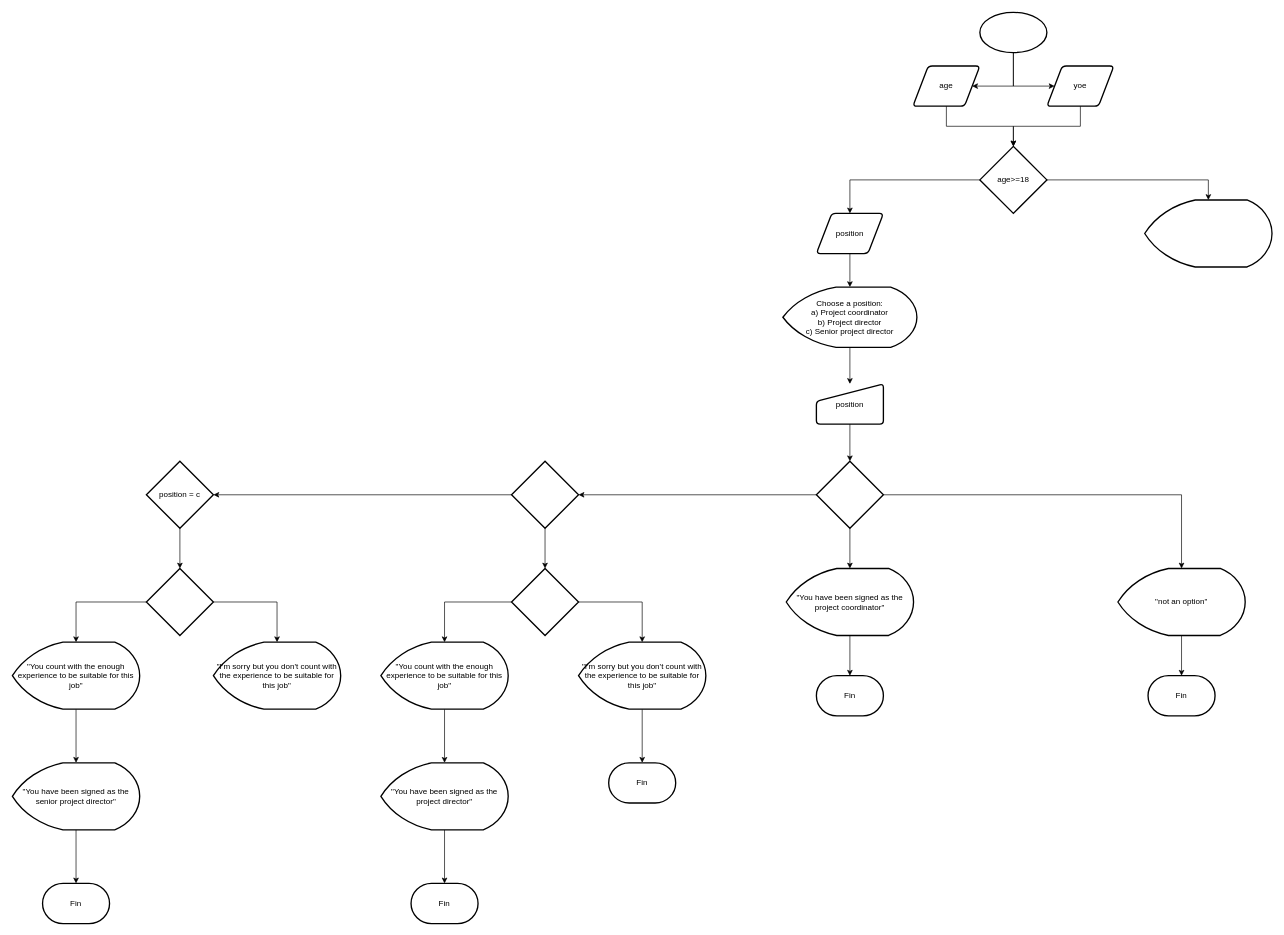
Some shapes in this 1284 by 935 pixel diagram are drawn without their labels. The shapes that lost their labels are listed below. From the top down, each one's box as (x1, y1, x2, y2) in pixels, then its label:
(979, 11, 1047, 53): Inicio
(1144, 199, 1272, 267): "I'm sorry you are not of the legal age"
(511, 460, 579, 529): position = b
(815, 460, 884, 529): position = a
(145, 567, 214, 636): yoe >= 5
(511, 567, 579, 636): yoe >= 3
